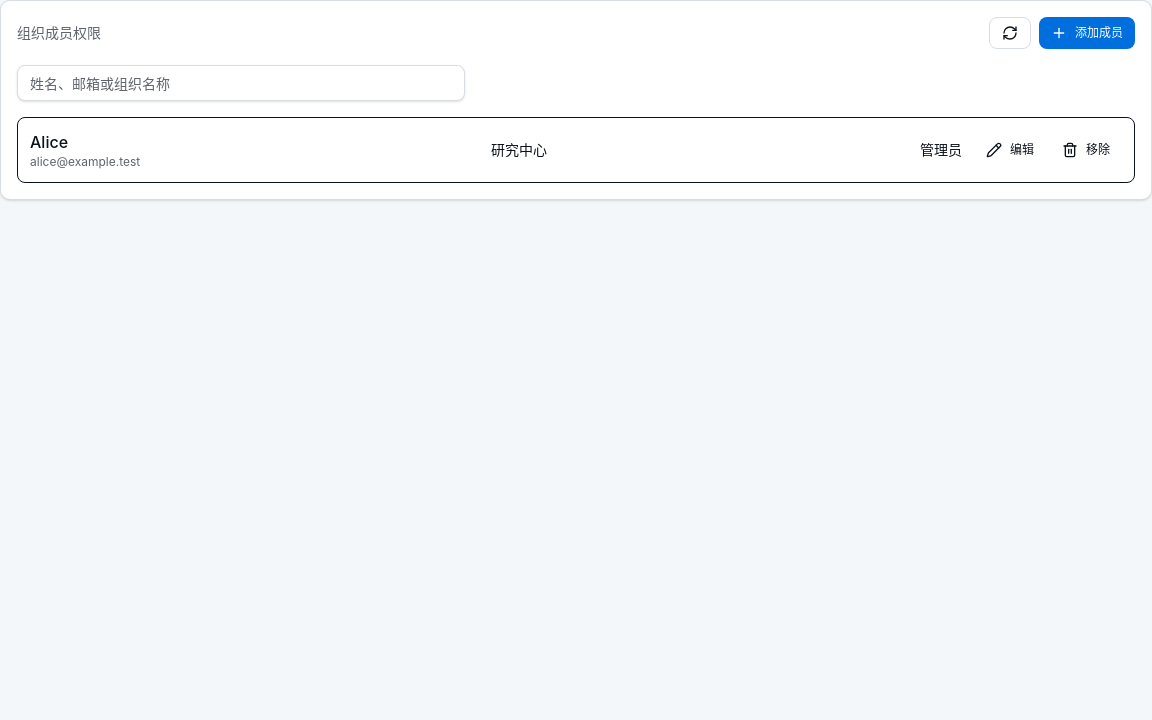
it: edits the selected member by name and preserves the target identity
Click the button with aria-label "编辑 Alice 的组织权限". click: x=1010, y=150
box: [974,134,1046,166]
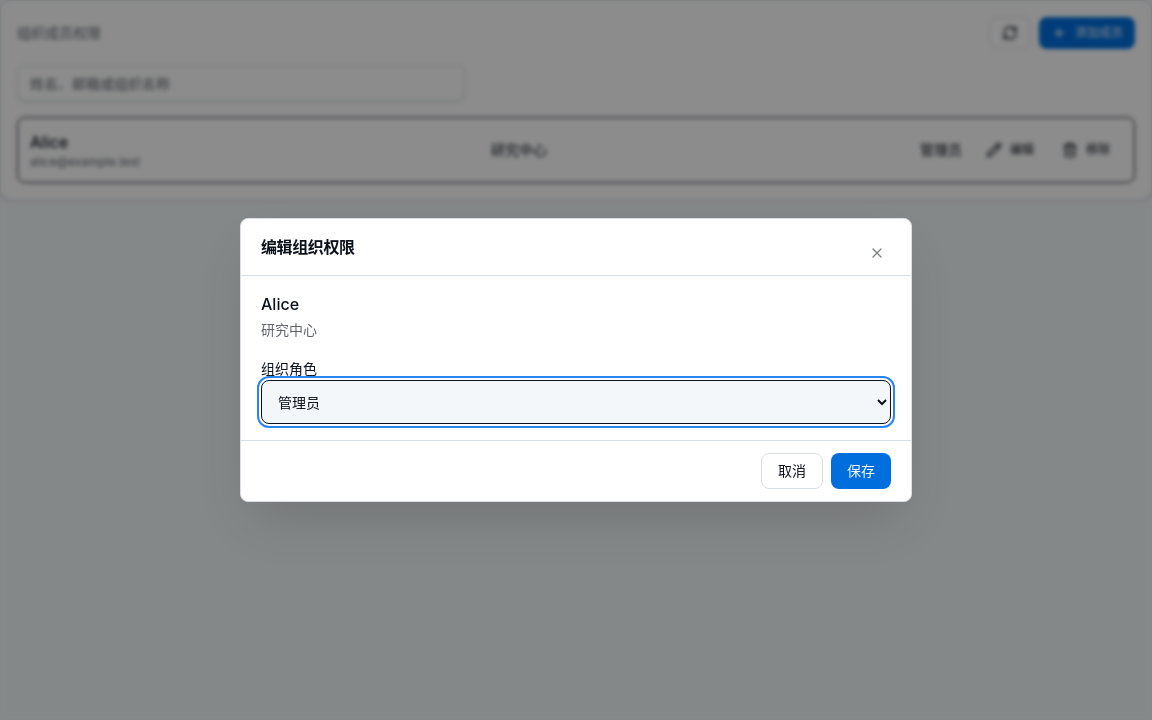
Expected: the text "研究中心" is shown, [261,321,317,338]
Select "运营人员" in the dropdown labelled "组织角色". click: x=576, y=402
box: [261,380,891,424]
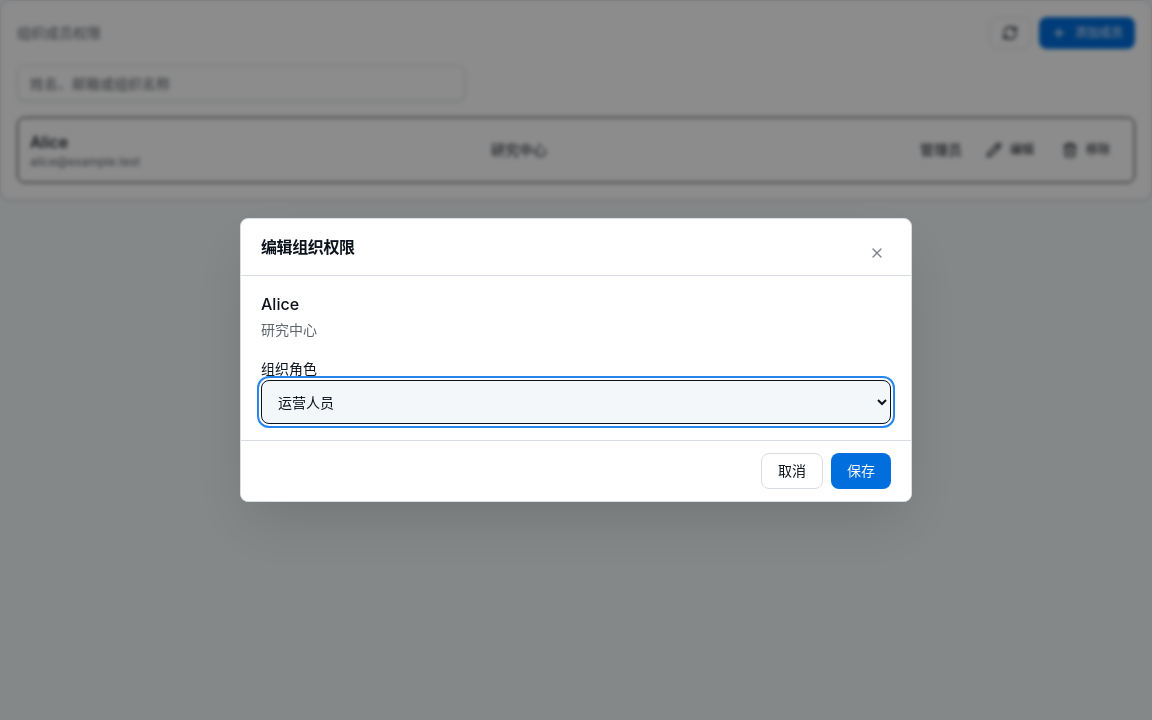
Click the button "保存". click: x=861, y=471
box: [831,453,891,489]
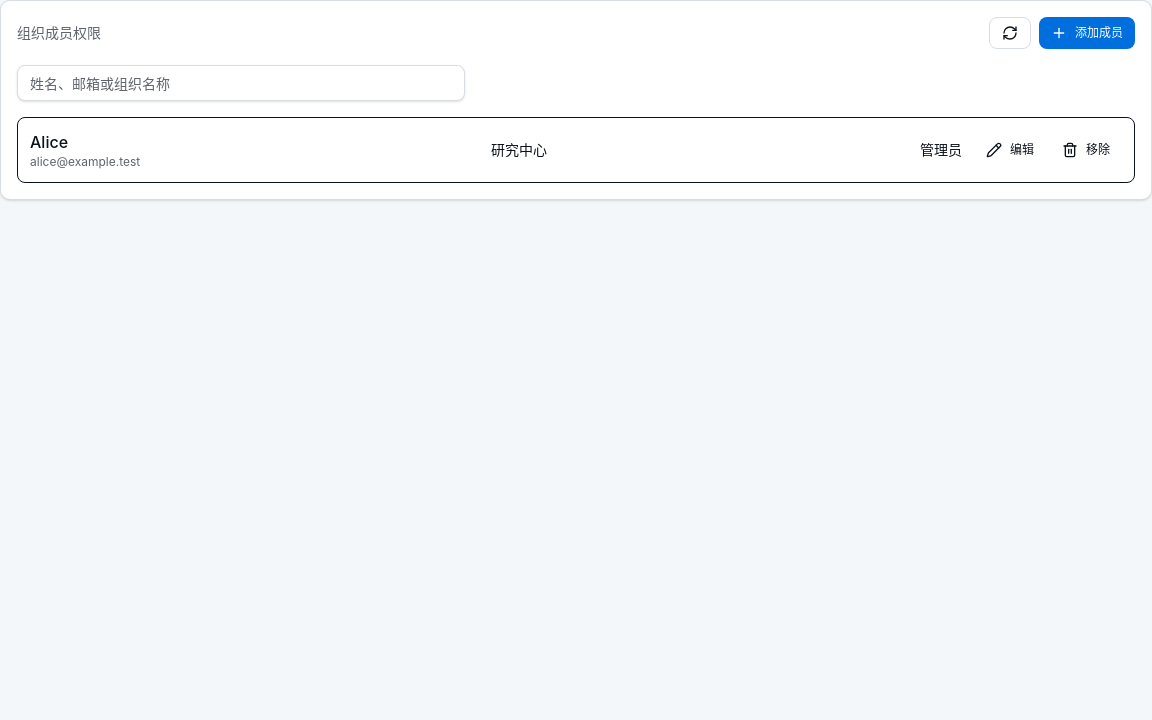
Expected: the dialog is gone
